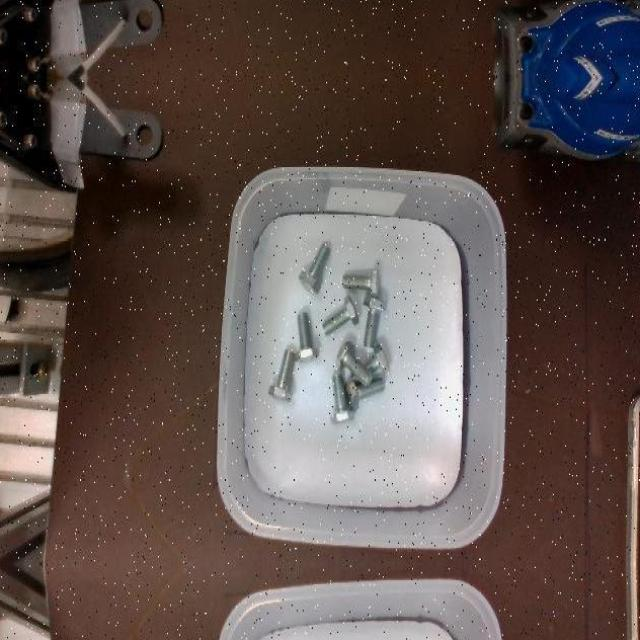screw: (335, 341, 372, 386), (298, 243, 330, 293), (322, 294, 359, 336), (267, 349, 295, 402), (362, 296, 387, 347), (330, 372, 355, 422), (294, 310, 318, 361), (341, 269, 380, 298)
